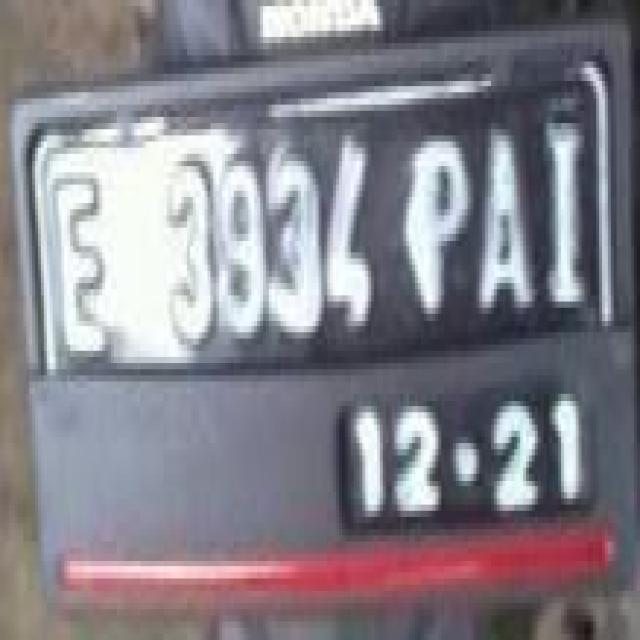3: (267, 151, 330, 345), (162, 150, 215, 367)
4: (324, 138, 381, 336)
9: (212, 148, 268, 357)
A: (474, 132, 534, 323)
E: (48, 166, 115, 369)
I: (542, 104, 592, 314)
P: (406, 135, 474, 314)
